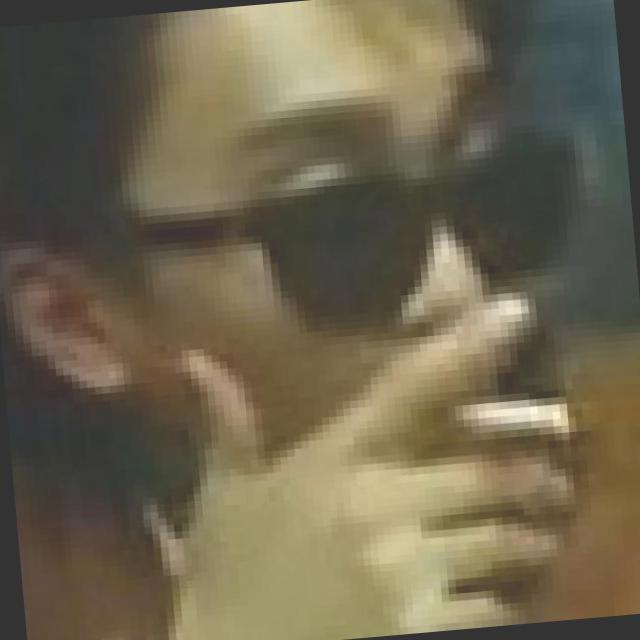smoke: (446, 382, 568, 442)
